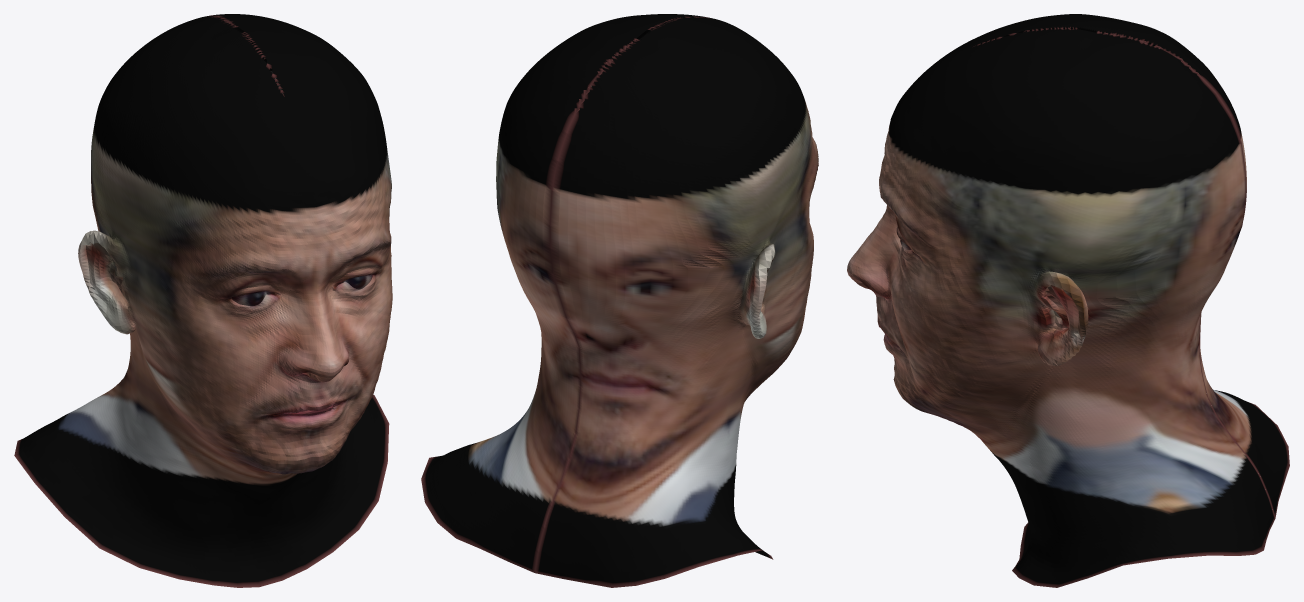
File: mesh_coarse_detail.obj
The picture shows the model from 3 angles, left to right: view 1: azimuth 30°, elevation 25°; view 2: azimuth 150°, elevation 25°; view 3: azimuth 270°, elevation 25°; orthographic projection.
Bounding box in the file's own units: 0.2171 × 0.3269 × 0.2443.
